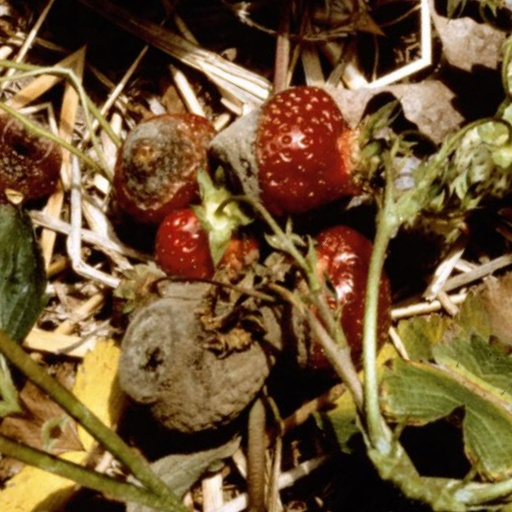Gray Mold: (182, 268, 331, 450), (160, 80, 325, 218), (85, 165, 179, 288)
